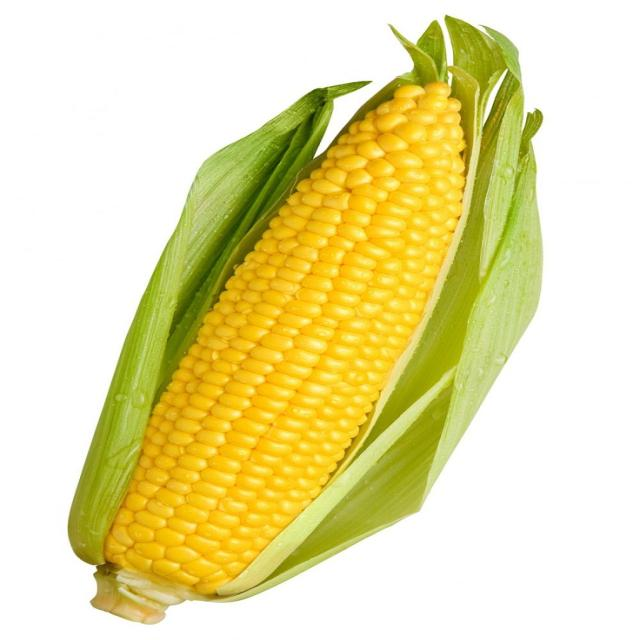corn: (62, 31, 529, 620)
